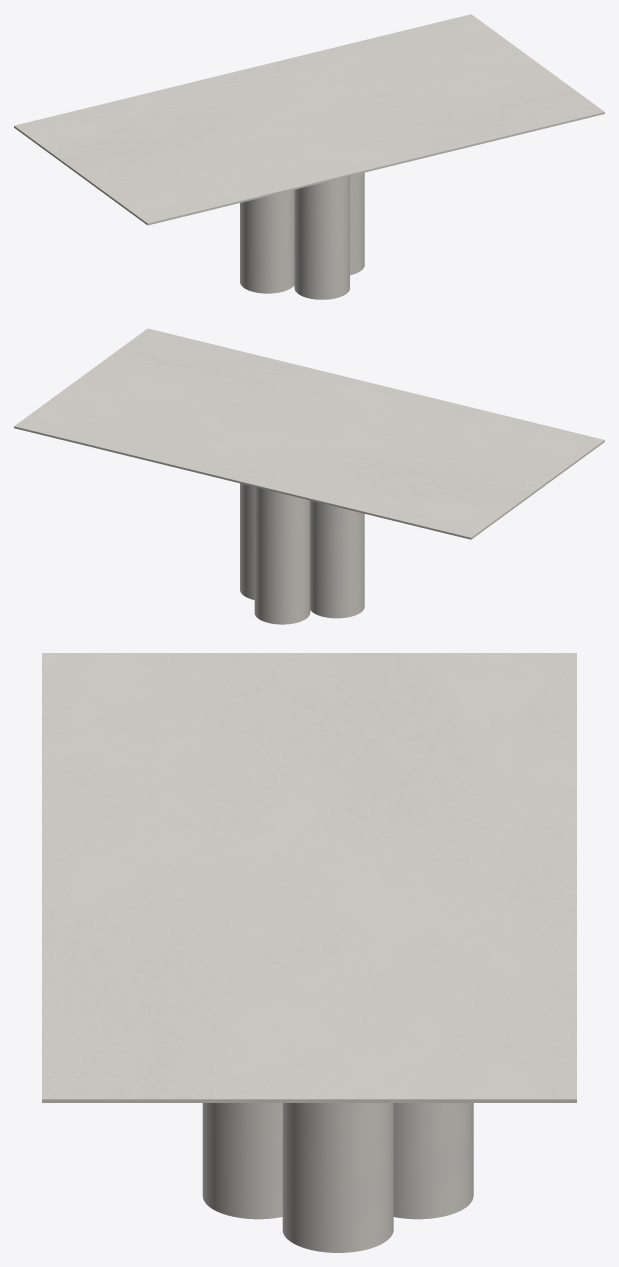
File: purewhite_recta_facet_secondtable.glb
3 views of the same model, one above another, from view 1: azimuth 30°, elevation 25°; view 2: azimuth 150°, elevation 25°; view 3: azimuth 270°, elevation 25° (orthographic). The views are drawn at different scales.
Parts seen in each view (by area): view 1: facet_recta, secondtable; view 2: facet_recta, secondtable; view 3: facet_recta, secondtable.
Boxes of the visible parts, x1,y1,x2,y2 form: facet_recta: (14, 14, 604, 225); secondtable: (240, 172, 364, 299); facet_recta: (14, 328, 604, 539); secondtable: (240, 483, 364, 624); facet_recta: (42, 653, 576, 1102); secondtable: (202, 1103, 473, 1252).
Size of the model in its own units: 7.5 by 2.5 by 3.8.
1 material, 1 textured.
